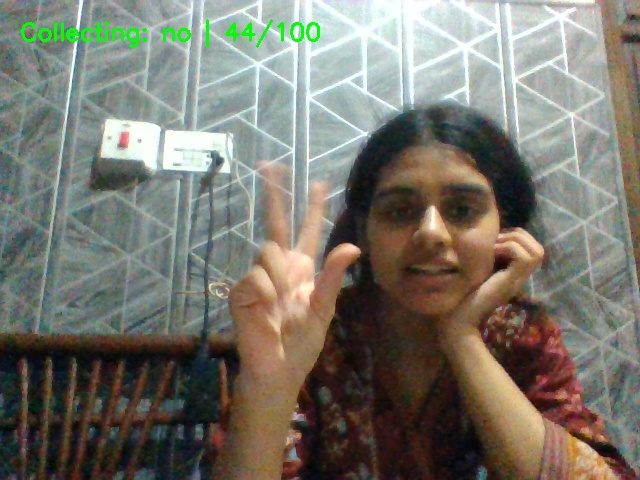no: (220, 156, 377, 458)
